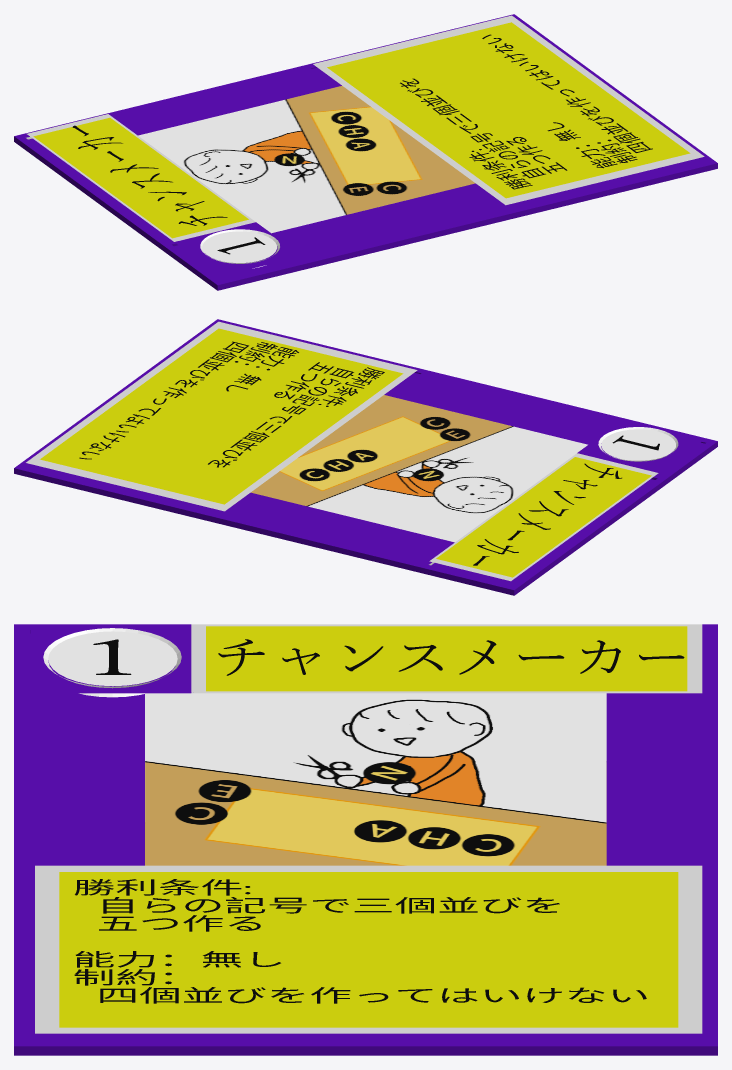
Rendered from チャンスメーカー紫.fbx.
The picture shows the model from 3 angles, top to bottom: view 1: azimuth 30°, elevation 25°; view 2: azimuth 150°, elevation 25°; view 3: azimuth 270°, elevation 25°; orthographic projection. The views are drawn at different scales.
Visible parts, largest first — view 1: 説明欄, 平面.001, カード本体.001, 名前欄, 説明文, 円, 平面, 名前; view 2: 説明欄, 平面.001, カード本体.001, 名前欄, 説明文, 円, 平面, 名前; view 3: 説明欄, 平面.001, カード本体.001, 名前欄, 説明文, 円, 平面, 名前, コスト蘭.
Part boxes in pixels (<box>): 説明欄: <box>313,15,704,205</box>; 平面.001: <box>138,86,475,233</box>; カード本体.001: <box>14,14,717,290</box>; 名前欄: <box>27,114,255,241</box>; 説明文: <box>400,34,652,189</box>; 円: <box>202,231,276,262</box>; 平面: <box>174,222,302,275</box>; 名前: <box>72,125,227,225</box>; 説明欄: <box>26,321,417,511</box>; 平面.001: <box>251,395,587,542</box>; カード本体.001: <box>14,319,717,595</box>; 名前欄: <box>429,453,658,581</box>; 説明文: <box>79,341,384,467</box>; 円: <box>601,429,675,460</box>; 平面: <box>577,419,704,472</box>; 名前: <box>473,463,621,565</box>; 説明欄: <box>35,865,702,1033</box>; 平面.001: <box>145,693,606,865</box>; カード本体.001: <box>14,624,717,1055</box>; 名前欄: <box>191,624,702,693</box>; 説明文: <box>74,879,646,1003</box>; 円: <box>48,631,177,686</box>; 平面: <box>30,624,191,693</box>; 名前: <box>218,639,684,675</box>; コスト蘭: <box>43,628,181,697</box>.
Size of the model in its own units: 281 by 6.07 by 198.
Materials: 13 (1 with a texture image).
